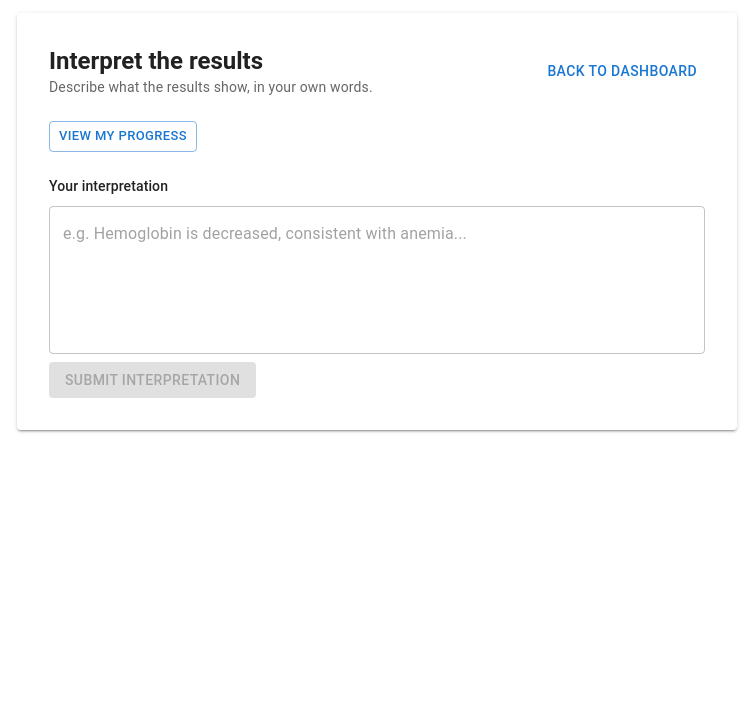
Test: InterpretationPage › submits free text and displays the score and feedback
In the text box named "Your interpretation": (377, 280) [63,222,691,337], type "Hemoglobin is decreased."
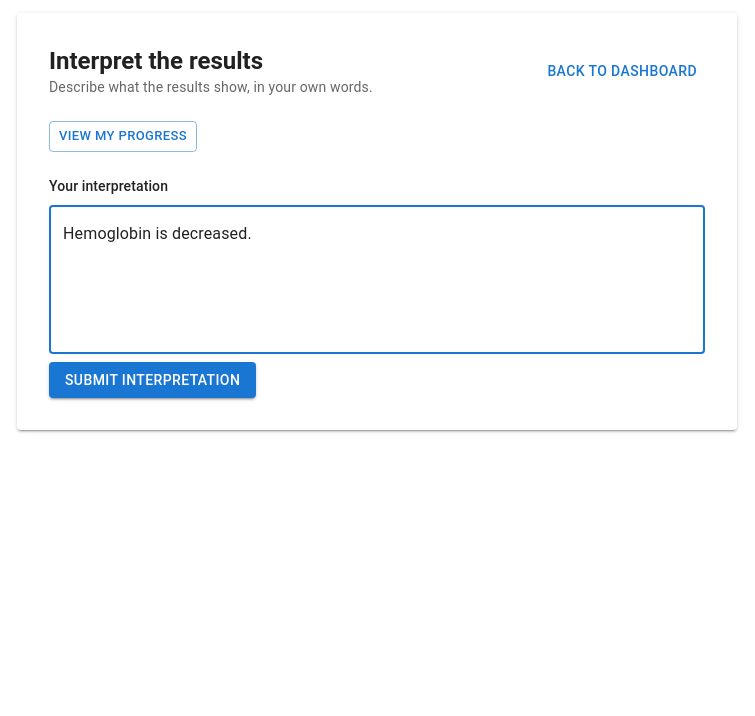
Click the button "Submit interpretation": (153, 380) [49,362,256,398]
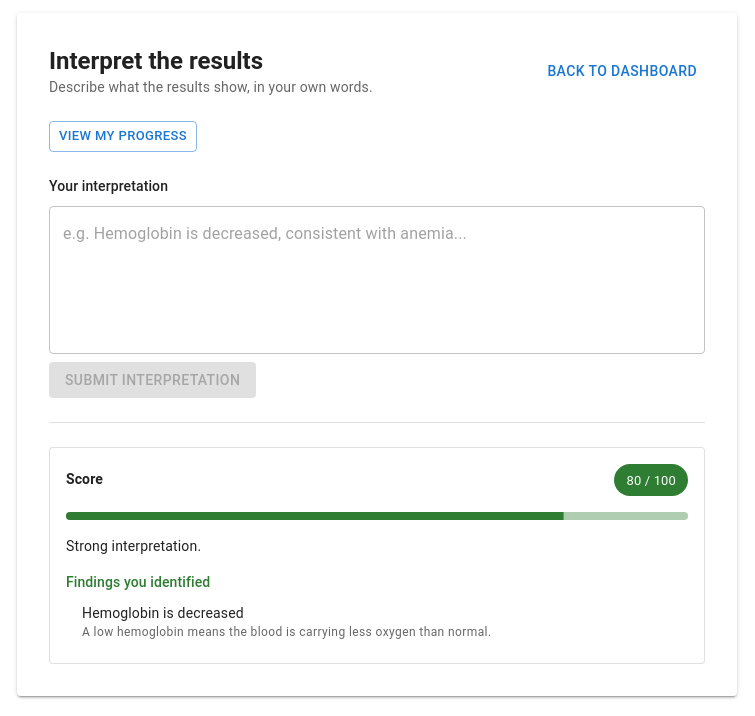
Expected: the text "80 / 100" is shown, [626,472,676,488]
Expected: the text "Strong interpretation." is shown, [66,538,201,554]
